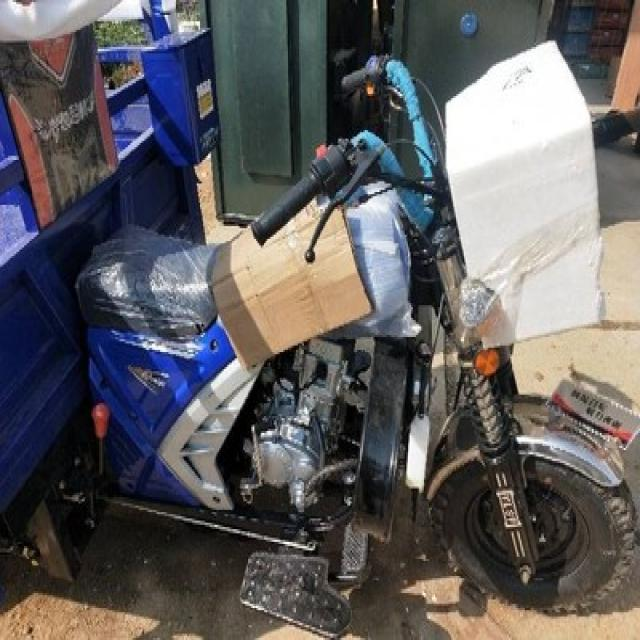tricycle: (0, 0, 632, 638)
